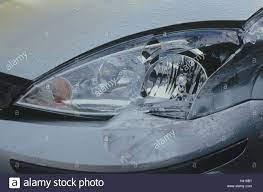Headlight-Damage: (9, 15, 262, 128)
